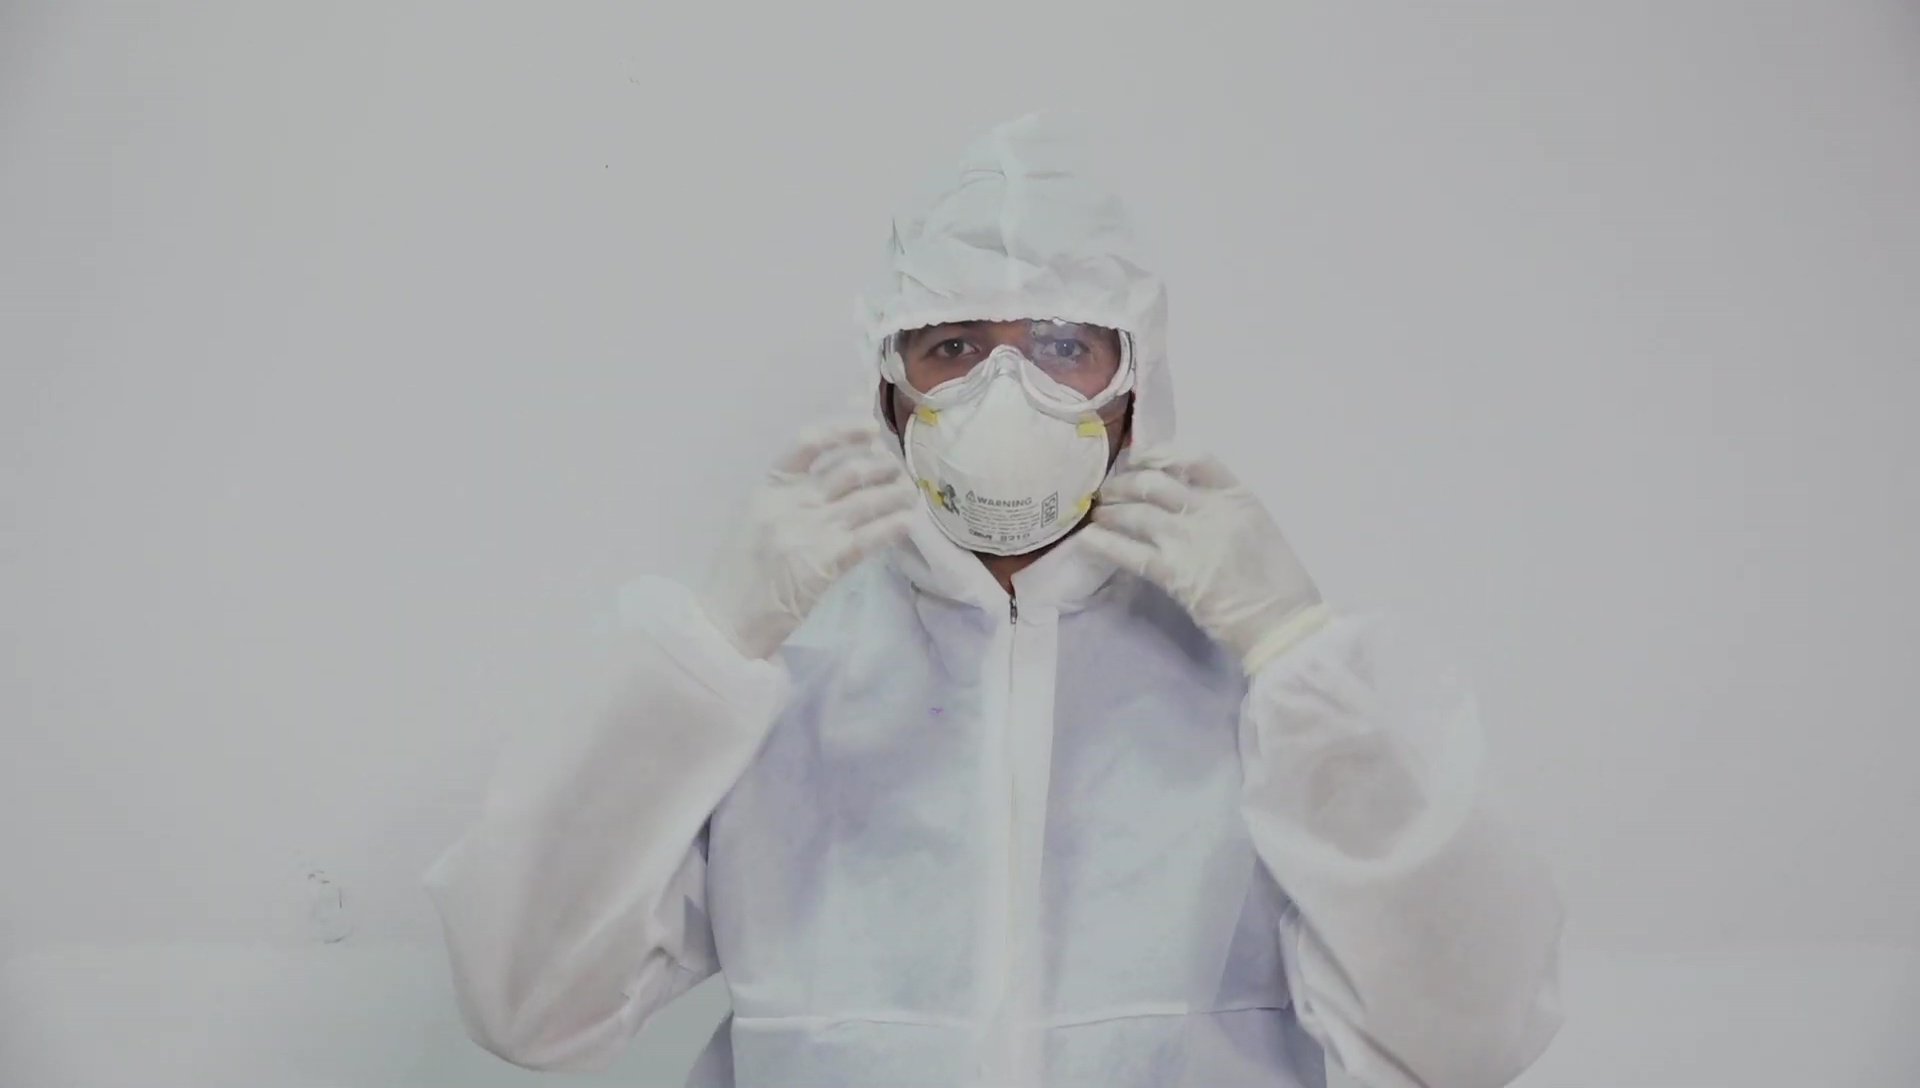Coverall: (421, 114, 1562, 1085)
Gloves: (693, 417, 916, 658), (1080, 444, 1328, 660)
Goggles: (879, 315, 1135, 427)
with_mask: (899, 350, 1110, 572)
